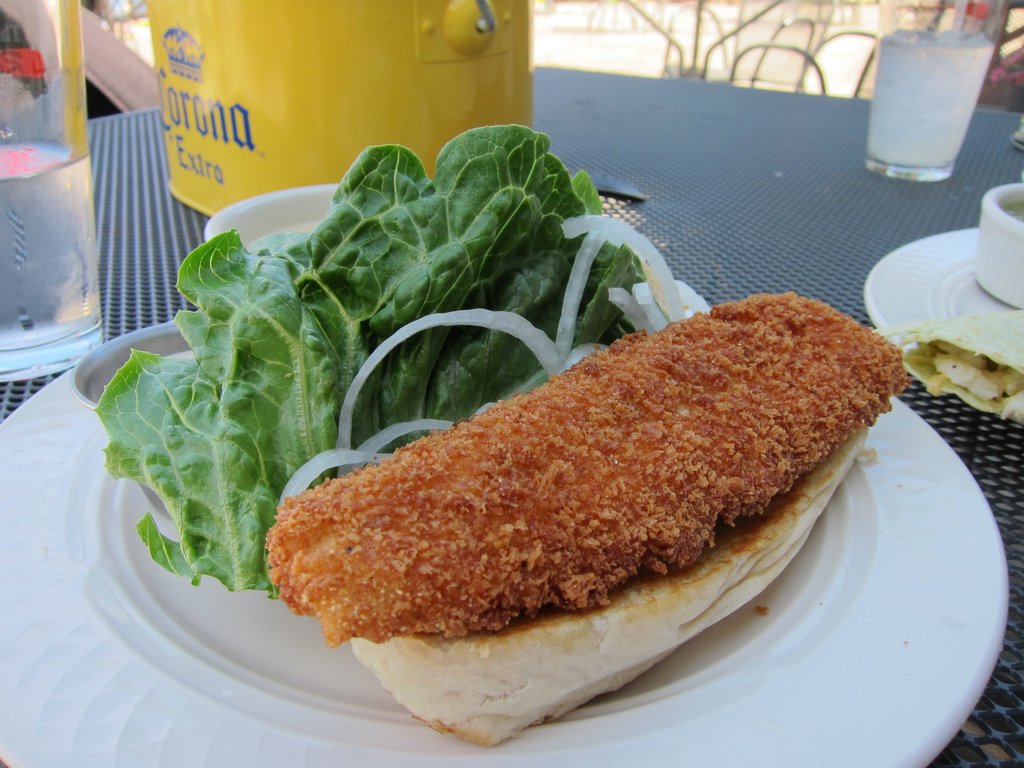sandwich: (265, 289, 910, 748)
